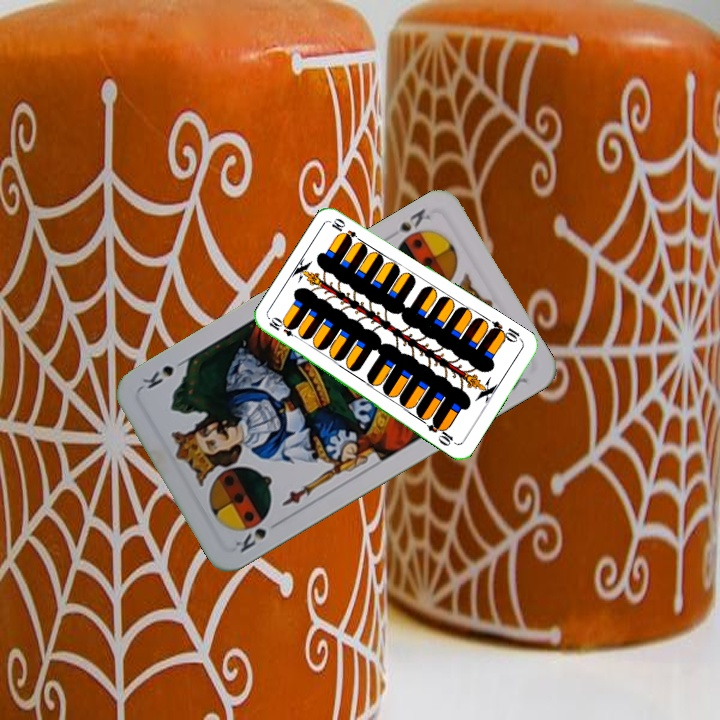E10: (486, 317, 525, 345), (265, 314, 303, 342)
SK: (394, 204, 434, 235), (231, 524, 269, 556)
